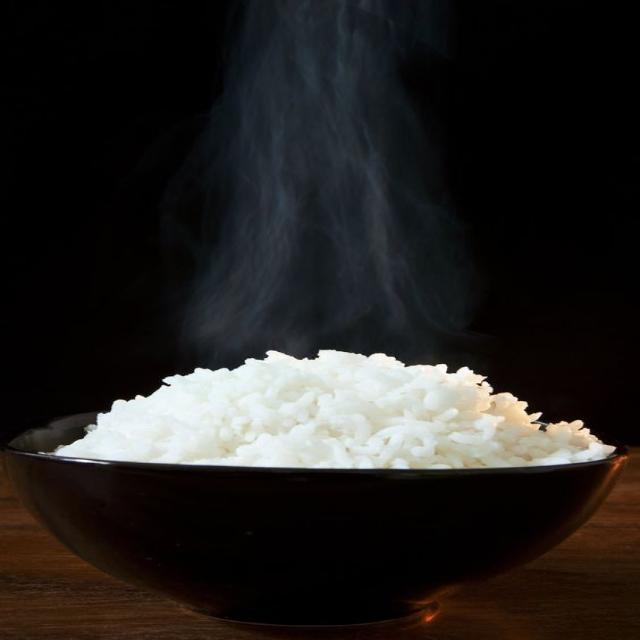nasi_putih: (44, 332, 626, 488)
